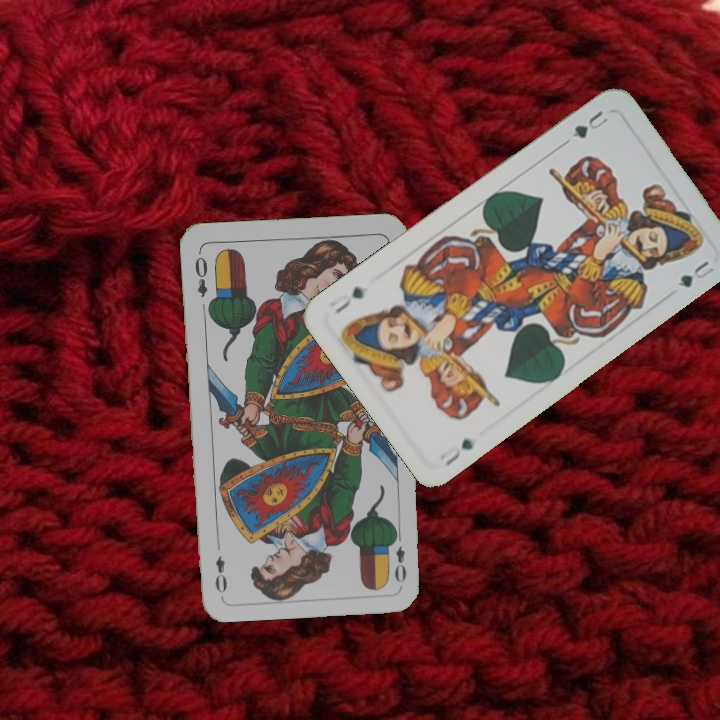EO: (388, 527, 409, 586), (190, 248, 211, 300)
GU: (568, 106, 611, 141), (436, 434, 476, 469)
